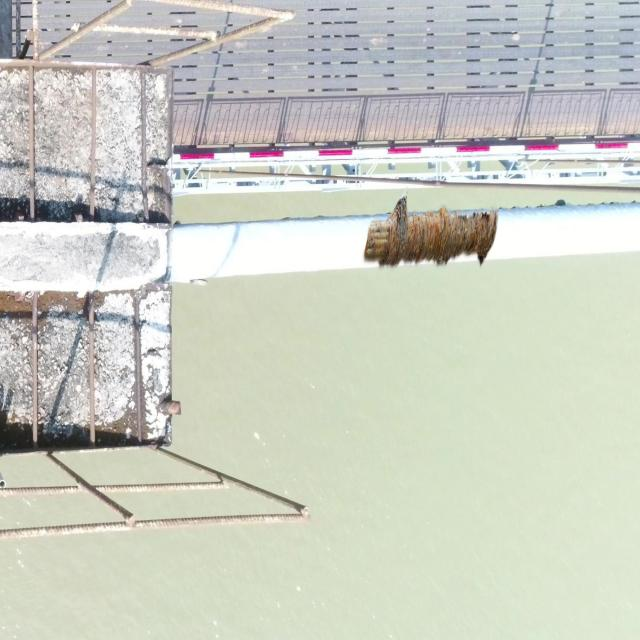corrosion: (360, 195, 502, 270)
